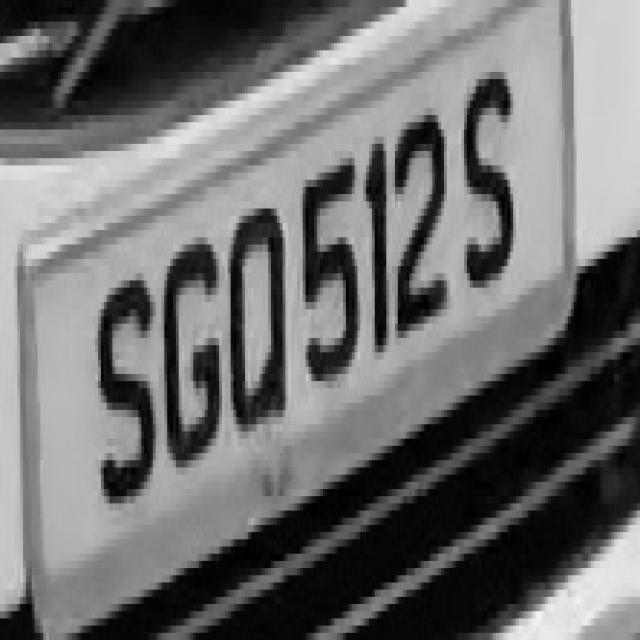1: (360, 122, 401, 388)
2: (384, 94, 456, 345)
5: (291, 144, 358, 403)
G: (158, 216, 225, 467)
Q: (222, 187, 294, 446)
S: (89, 259, 156, 525), (455, 43, 522, 309)
